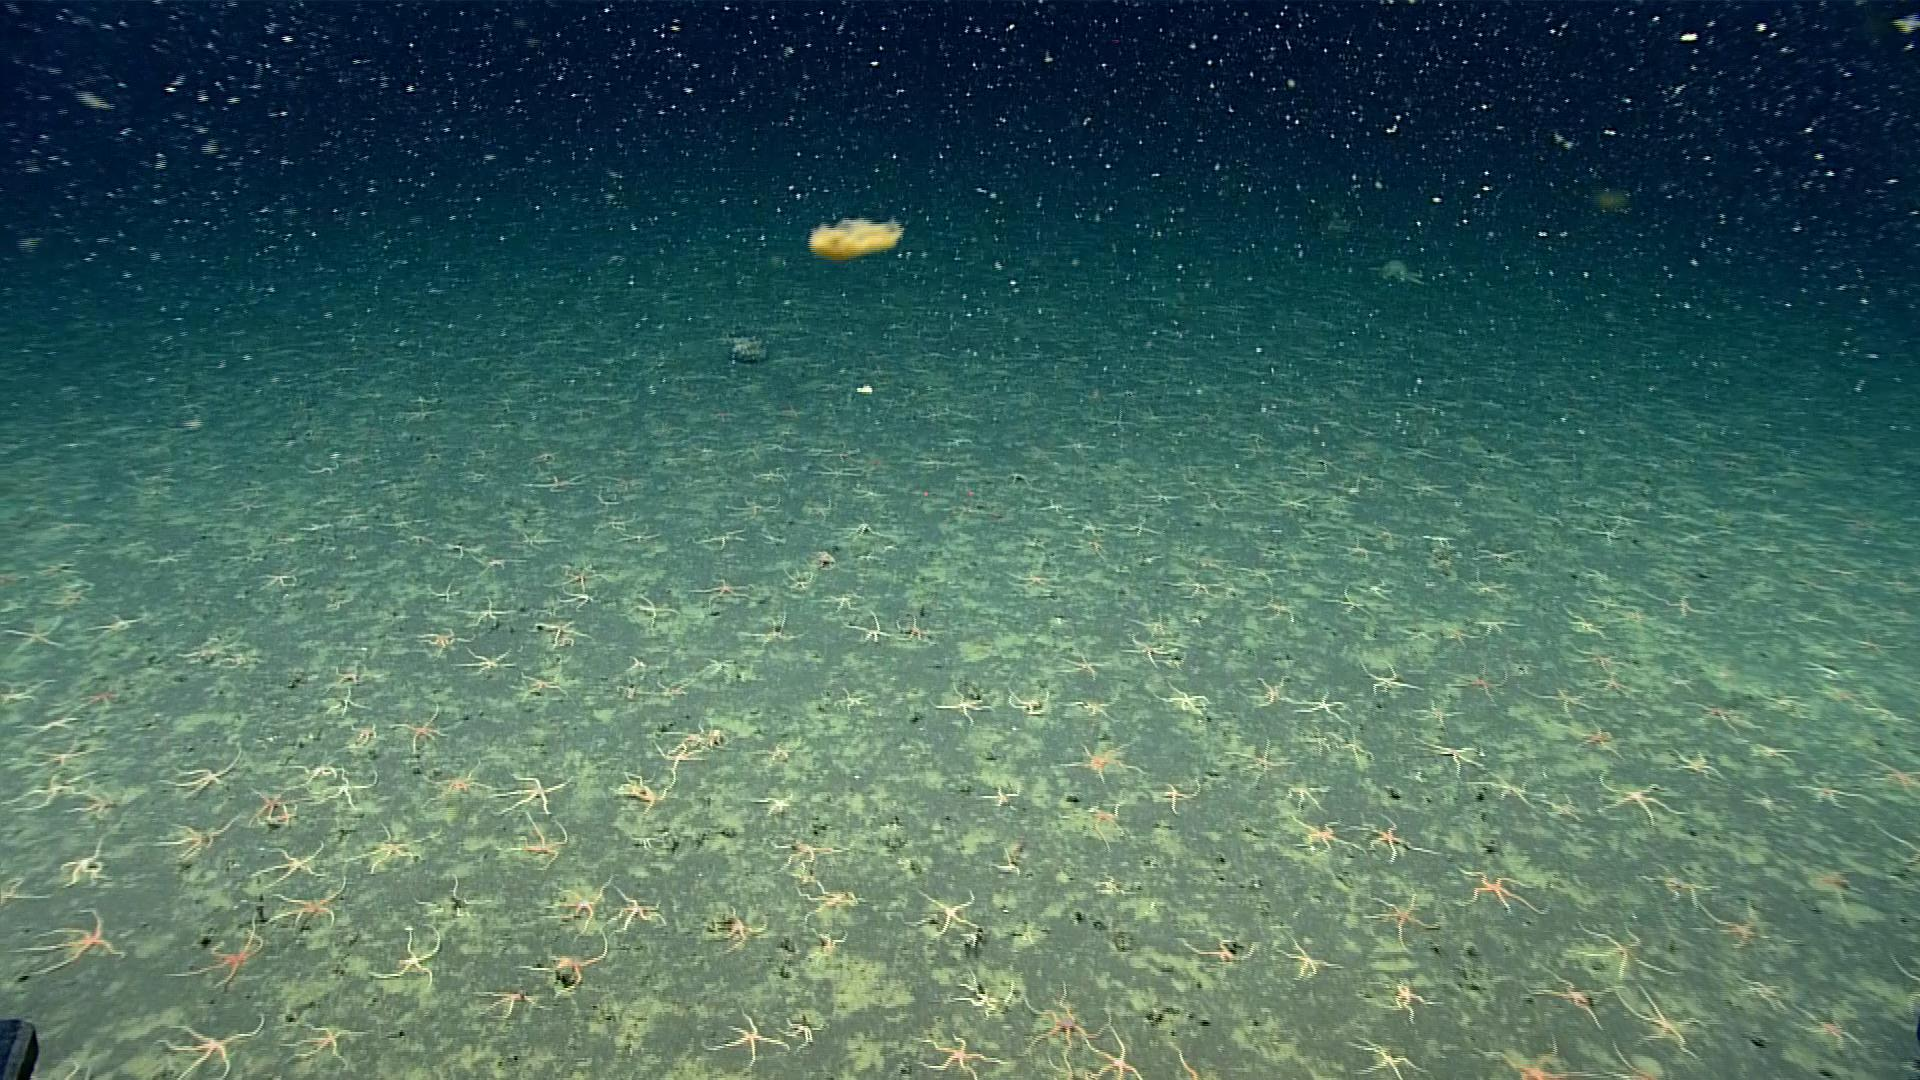brittle_sea_star: (5, 905, 124, 976), (1021, 981, 1112, 1064), (164, 913, 264, 988), (1577, 919, 1681, 988), (157, 1010, 266, 1075), (1615, 982, 1701, 1063), (1530, 967, 1618, 1031), (702, 1010, 791, 1069), (1695, 902, 1793, 955), (521, 938, 611, 993), (1, 769, 103, 818), (145, 811, 239, 864), (342, 823, 433, 874), (1592, 774, 1683, 824), (1456, 868, 1544, 918), (1362, 893, 1439, 948), (535, 874, 605, 934), (371, 926, 442, 984), (905, 885, 981, 938), (914, 1031, 1005, 1075), (264, 884, 344, 932), (498, 812, 567, 866), (285, 1021, 368, 1064), (381, 705, 456, 753), (411, 874, 488, 920), (1793, 1005, 1865, 1054), (1276, 935, 1341, 988), (1414, 735, 1487, 781), (1469, 766, 1543, 812), (160, 756, 245, 795), (492, 770, 570, 814), (1060, 741, 1141, 782), (1349, 1035, 1423, 1079), (603, 886, 666, 936), (1087, 1023, 1143, 1079), (256, 840, 330, 882), (410, 764, 485, 804), (761, 835, 844, 872), (1362, 822, 1435, 864), (1377, 978, 1443, 1025), (1642, 865, 1718, 905), (1286, 815, 1357, 857), (305, 770, 378, 810), (704, 911, 766, 955), (1178, 934, 1259, 967), (795, 880, 865, 918), (951, 971, 1010, 1015), (58, 840, 113, 887), (12, 740, 98, 770), (472, 981, 545, 1017), (931, 683, 992, 725), (1228, 740, 1292, 779), (1689, 700, 1755, 738), (1080, 799, 1127, 851), (455, 593, 521, 630), (1565, 717, 1622, 758), (1792, 777, 1865, 808), (694, 574, 757, 609), (616, 771, 669, 814), (1244, 673, 1311, 705), (1482, 1044, 1547, 1079), (1605, 1038, 1659, 1079), (1361, 663, 1420, 700), (450, 645, 516, 678), (7, 615, 63, 651), (244, 786, 297, 825), (742, 613, 803, 647), (1734, 971, 1783, 1013), (407, 625, 471, 657), (1449, 669, 1507, 703), (1532, 687, 1601, 716), (1807, 868, 1857, 907), (1129, 603, 1185, 636), (621, 593, 676, 626), (1153, 684, 1208, 717), (513, 666, 564, 700), (849, 611, 894, 647), (649, 738, 705, 767), (1001, 564, 1060, 592), (1154, 782, 1203, 815), (1282, 778, 1332, 810), (530, 618, 587, 646), (1122, 636, 1170, 669), (1673, 749, 1722, 781), (1299, 690, 1352, 719), (669, 724, 729, 749), (1332, 534, 1383, 563), (90, 612, 142, 640), (1871, 758, 1917, 790), (891, 616, 942, 645), (555, 584, 605, 613), (319, 687, 367, 717), (0, 874, 47, 905), (1160, 575, 1221, 599), (1578, 642, 1622, 675), (1257, 591, 1298, 625), (17, 712, 82, 733), (1060, 535, 1112, 562), (1062, 651, 1108, 680), (71, 790, 124, 815), (782, 1014, 825, 1044), (1327, 588, 1370, 618), (1062, 516, 1108, 543), (1164, 1042, 1199, 1079), (1006, 688, 1050, 717), (294, 761, 344, 786), (1337, 738, 1375, 770), (1408, 703, 1461, 725), (1866, 699, 1911, 725), (1060, 696, 1116, 717), (1663, 593, 1709, 618), (516, 475, 582, 492), (1543, 795, 1582, 823), (698, 525, 741, 550), (174, 640, 219, 663), (843, 517, 881, 545), (1460, 575, 1506, 597), (829, 686, 868, 712), (650, 679, 695, 702), (977, 787, 1025, 808), (724, 496, 782, 513), (315, 665, 365, 684), (1747, 742, 1797, 762), (464, 554, 517, 572), (1768, 692, 1809, 716), (825, 588, 868, 611), (1742, 790, 1784, 812), (1357, 574, 1393, 600), (812, 928, 847, 955), (804, 543, 840, 568), (1597, 674, 1636, 696), (1120, 517, 1159, 539), (1139, 483, 1180, 504), (216, 646, 255, 669), (1436, 625, 1472, 649), (993, 848, 1022, 877), (1474, 618, 1523, 636), (347, 720, 378, 746), (754, 794, 794, 815), (1304, 729, 1336, 756), (1793, 605, 1833, 626), (79, 688, 119, 709), (1474, 545, 1518, 563), (783, 567, 814, 593), (848, 483, 889, 500), (757, 742, 790, 764), (555, 566, 588, 587), (426, 539, 473, 554), (1664, 669, 1695, 691), (260, 571, 299, 588), (141, 550, 187, 564), (1271, 493, 1313, 509), (1590, 527, 1629, 545), (626, 654, 654, 675), (429, 582, 456, 600), (615, 682, 640, 702), (599, 517, 630, 530), (1043, 498, 1065, 513)
